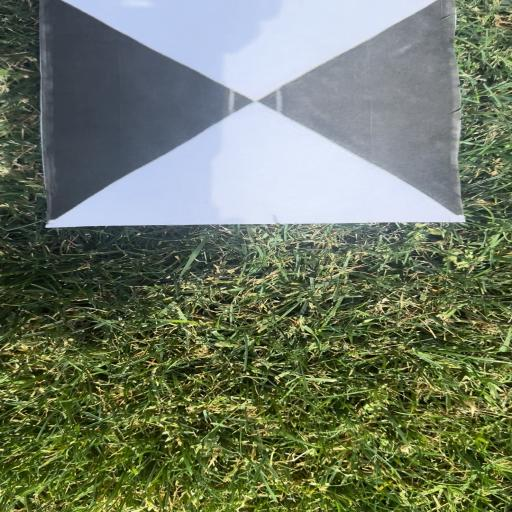target: (41, 0, 464, 221)
